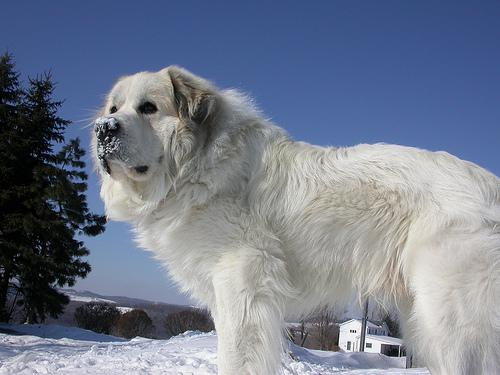dog-great_pyrenees: (90, 63, 219, 179)
